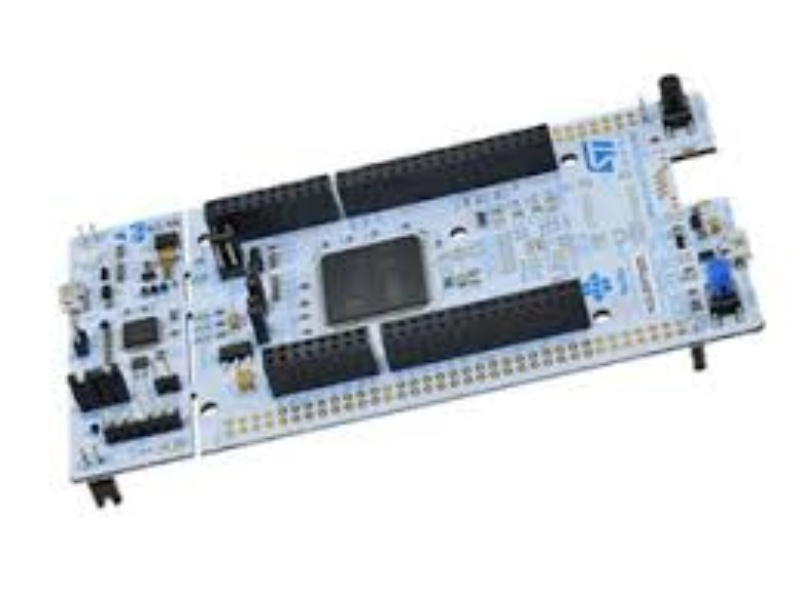stmnucleo: (16, 64, 772, 462)
